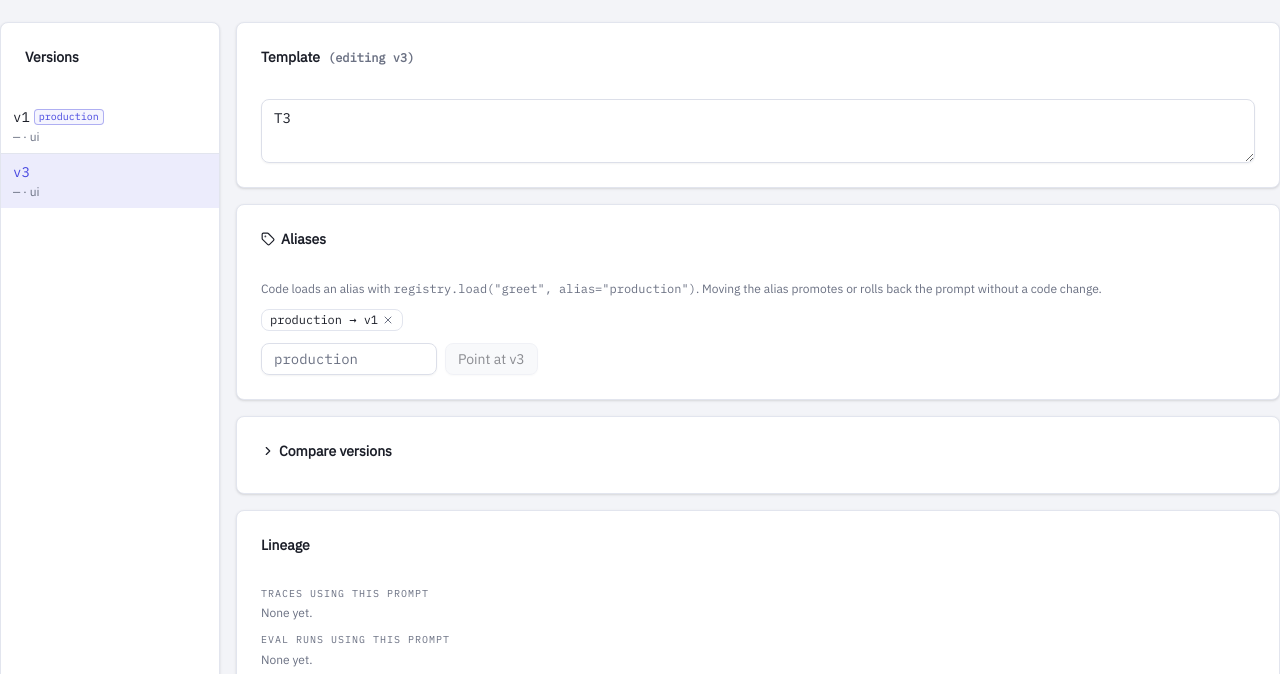
it: PromptEditorPage aliases and compare › compares the selected version with the one before it
Check: the text "(editing v3)" is shown, box [328,50,414,65]
Click the button "Compare versions": (326, 451) [261,441,392,461]
(page scrolled)
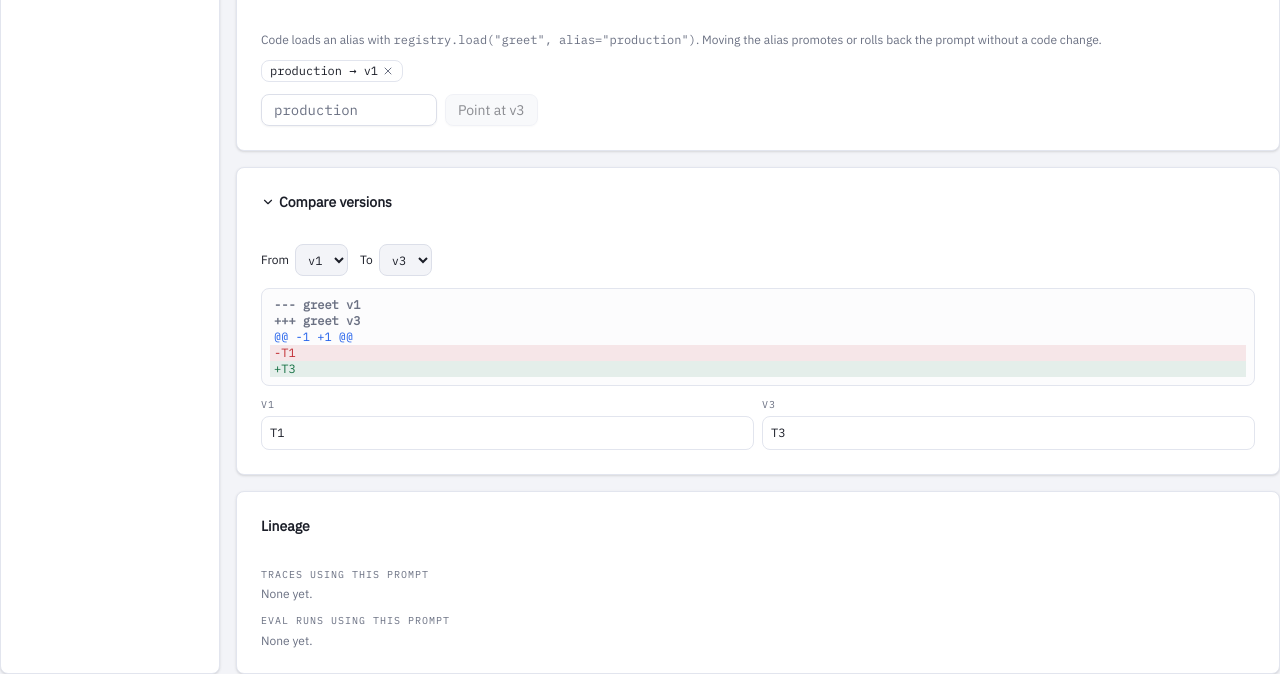
Check: the text with test id "prompt-side-1" reads "T1", box [270,425,284,440]
Check: the text with test id "prompt-side-3" reads "T3", box [771,425,785,440]
